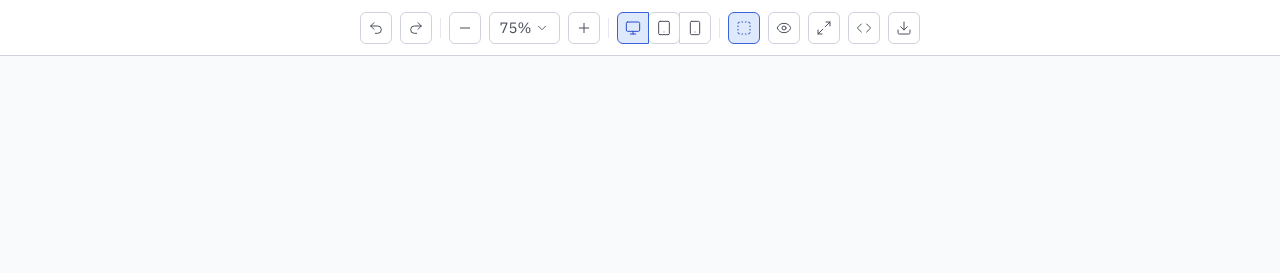
Test: the zoom menu lists Fit to Width then the steps, ticks the current one, and picks by keyboard
Click the button named "Zoom".
click(524, 28)  # box [488,12,560,44]
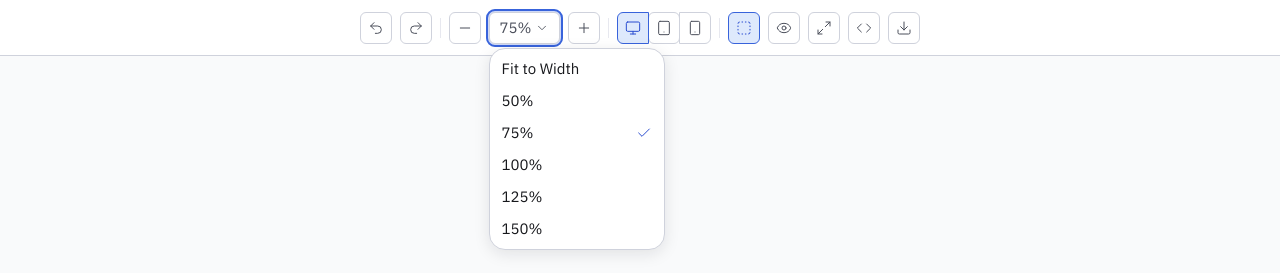
Expected: the buttons read "Fit to Width", "50%", "75%", "100%", "125%", "150%", in this order, [490,52,664,84]; [490,84,664,116]; [490,116,664,148]; [490,148,664,180]; [490,180,664,212]; [490,212,664,244]
Press Arrowdown
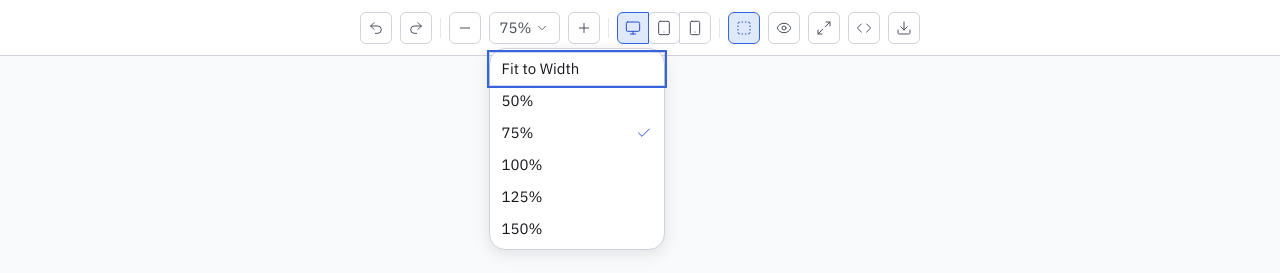
Press Enter
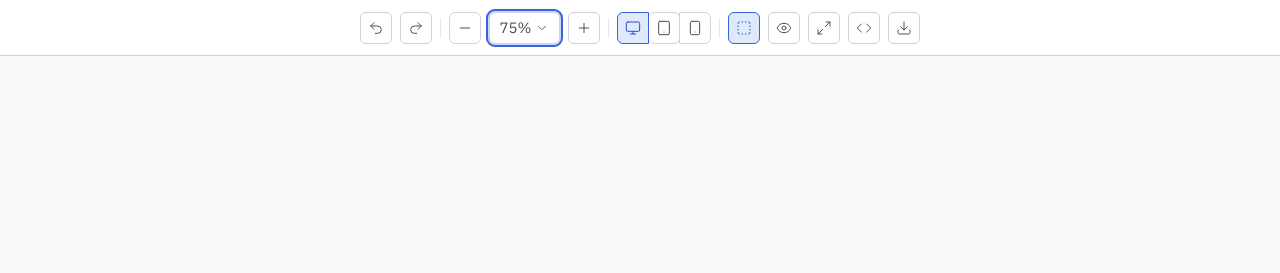
Expected: the text "Fit to Width 50% 75% 100% 125% 150%" is gone
